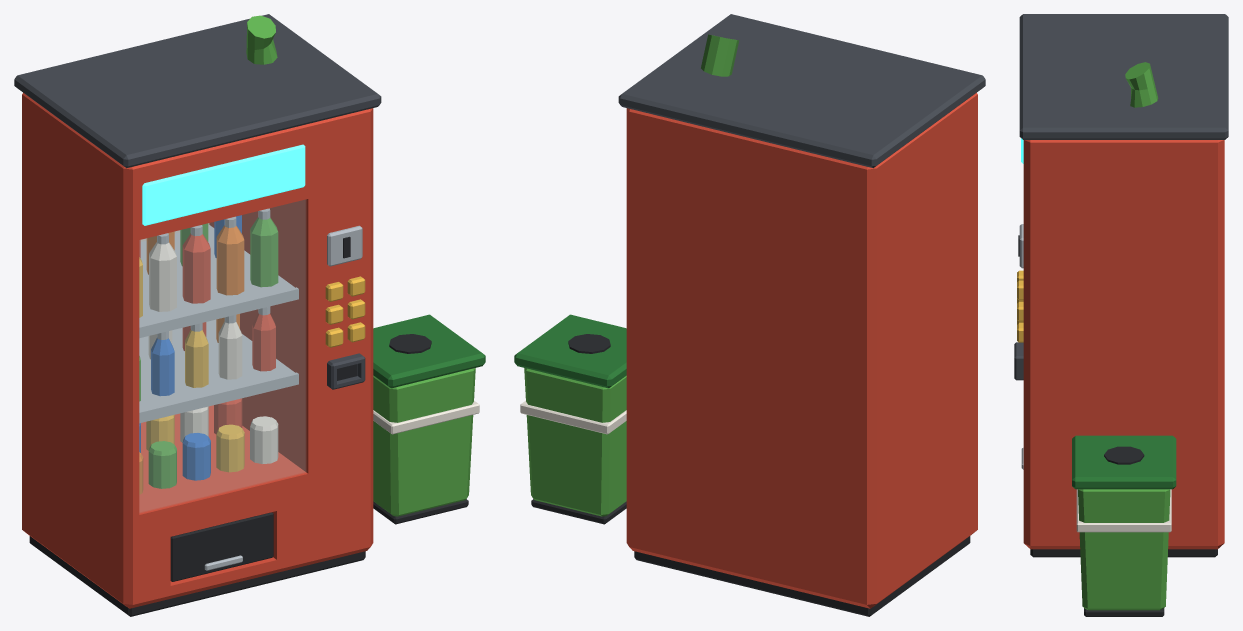
File: street-vending-machine.glb
3 views of the same model, side by side, from view 1: azimuth 30°, elevation 25°; view 2: azimuth 150°, elevation 25°; view 3: azimuth 270°, elevation 25° (orthographic). The views are drawn at different scales.
Parts seen in each view (by area): view 1: Machine_Body, Machine_Glass, Machine_TopCap, Bin_Body, Machine_Shelves, Machine_LitPanel, Drinks_Cream, Bin_Lid, DispenserFlap, Drinks_PaintRed, Drinks_Gold, Drinks_Foliage (+11 smaller); view 2: Machine_Body, Machine_TopCap, Bin_Body, Bin_Lid, Machine_Plinth, DentedCan, Bin_Band, Bin_Base, Bin_Hole; view 3: Machine_Body, Machine_TopCap, Bin_Body, Bin_Lid, Bin_Band, DentedCan, Machine_Plinth, Bin_Hole, Bin_Base, Machine_Buttons, Machine_CoinTray.
Part boxes in pixels (<box>): Machine_Body: <box>22,92,373,608</box>; Machine_Glass: <box>139,200,305,512</box>; Machine_TopCap: <box>14,14,381,168</box>; Bin_Body: <box>373,368,475,516</box>; Machine_Shelves: <box>139,225,298,423</box>; Machine_LitPanel: <box>142,144,305,225</box>; Drinks_Cream: <box>148,242,278,463</box>; Bin_Lid: <box>373,314,485,388</box>; DispenserFlap: <box>170,512,273,581</box>; Drinks_PaintRed: <box>139,233,275,434</box>; Drinks_Gold: <box>139,257,244,472</box>; Drinks_Foliage: <box>139,217,278,488</box>; Machine_Body: <box>626,92,977,608</box>; Machine_TopCap: <box>618,14,985,168</box>; Bin_Body: <box>524,368,626,516</box>; Bin_Lid: <box>514,314,626,388</box>; Machine_Plinth: <box>634,536,970,616</box>; DentedCan: <box>701,34,739,76</box>; Bin_Band: <box>520,400,626,434</box>; Bin_Base: <box>531,499,626,524</box>; Bin_Hole: <box>568,334,610,353</box>; Machine_Body: <box>1023,140,1224,549</box>; Machine_TopCap: <box>1019,14,1228,139</box>; Bin_Body: <box>1078,489,1170,610</box>; Bin_Lid: <box>1072,435,1176,489</box>; Bin_Band: <box>1076,489,1171,532</box>; DentedCan: <box>1125,62,1158,107</box>; Machine_Plinth: <box>1030,549,1217,557</box>; Bin_Hole: <box>1104,446,1144,464</box>; Bin_Base: <box>1084,608,1164,616</box>; Machine_Buttons: <box>1017,270,1023,342</box>; Machine_CoinTray: <box>1014,342,1023,380</box>.
Size of the model in its own units: 6.24 by 7.78 by 3.2.
